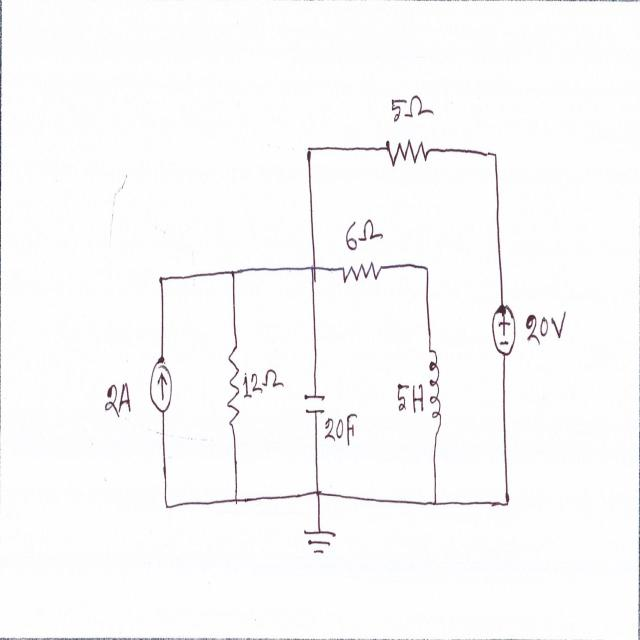capacitor: (302, 381, 328, 421)
current_source: (146, 350, 175, 417)
ground: (300, 522, 340, 561)
inductor: (425, 340, 444, 434)
resistor: (382, 130, 430, 172), (225, 338, 242, 442), (336, 253, 382, 289)
voltage_source: (489, 296, 518, 361)
